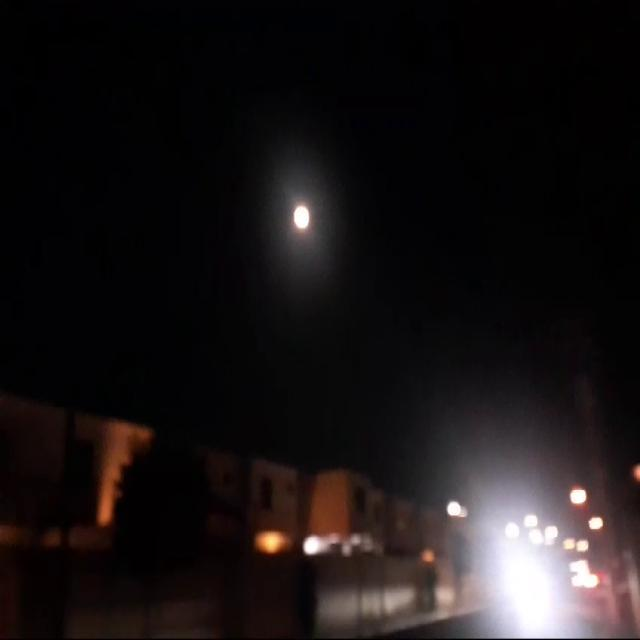moon: (317, 198, 336, 232)
